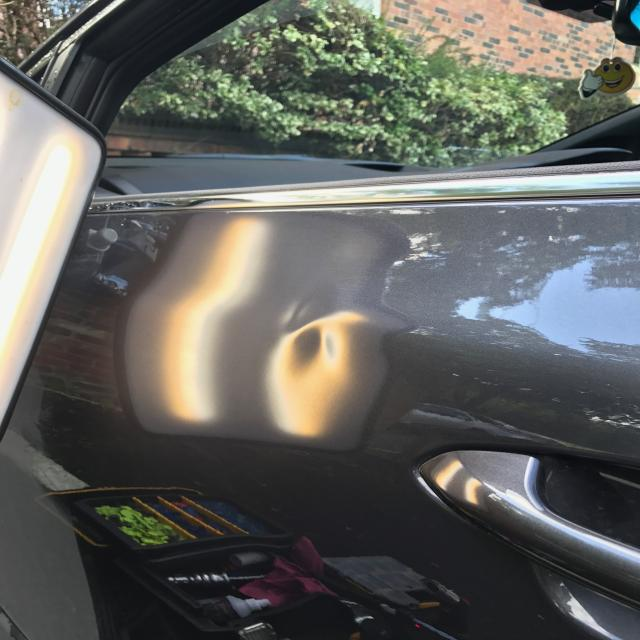dent: (274, 288, 339, 379)
